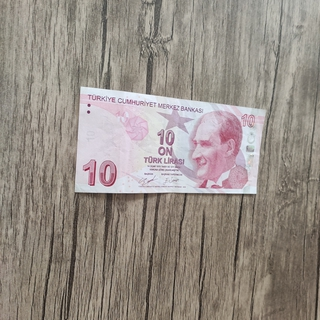10TLFront: (73, 85, 267, 195)
